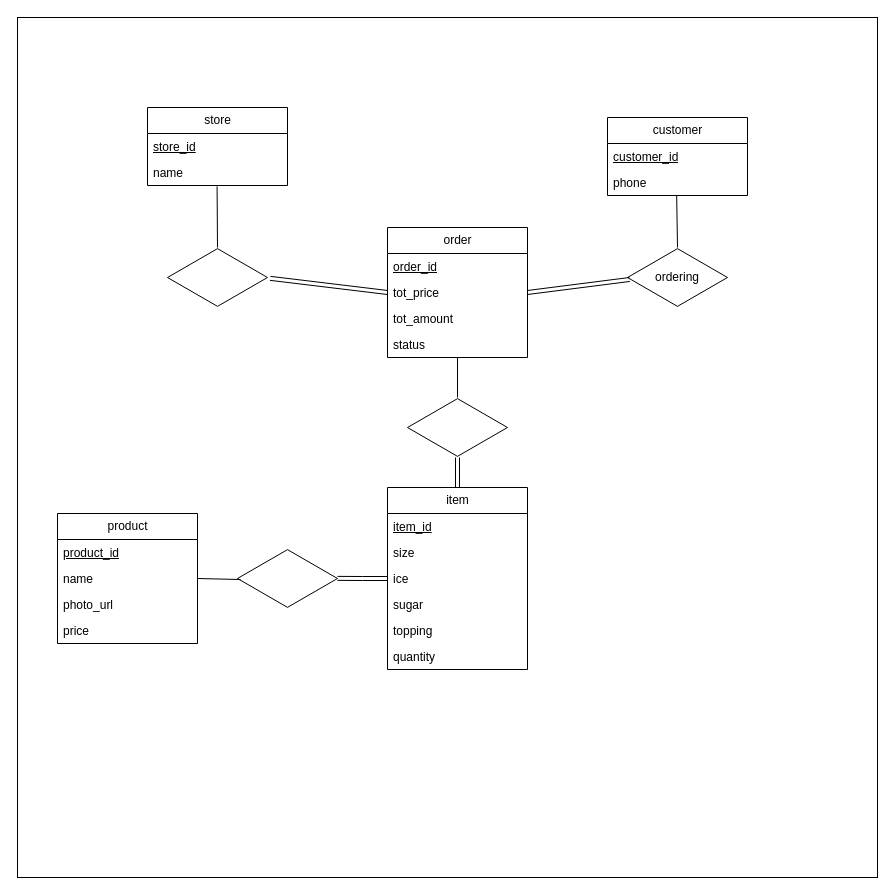
The diagram is 895 pixels wide and 895 high, and some of its shapes have lost their labels. Here are the shapes that lost their labels. From the top down, the centre of each, then its label:
At pixel 217 277: "order-taking".
At pixel 457 427: "details".
At pixel 287 578: "customization".
